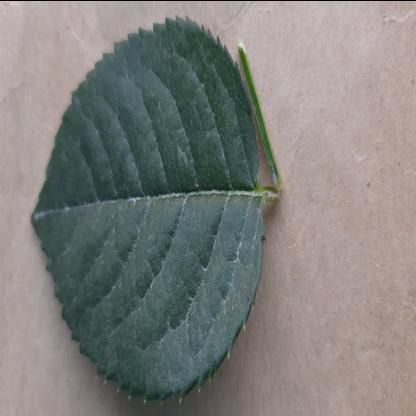normal: (29, 16, 266, 400)
